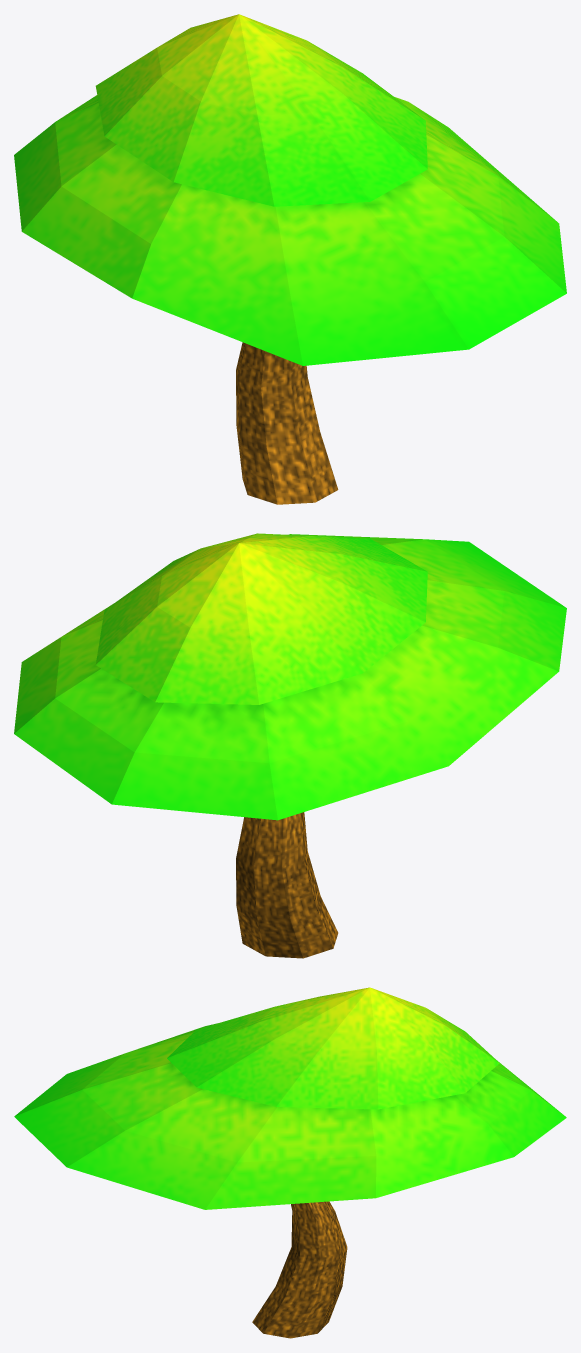
The model's file is tree_5.fbx.
3 renders of one model, top to bottom at view 1: azimuth 30°, elevation 25°; view 2: azimuth 150°, elevation 25°; view 3: azimuth 270°, elevation 25°, orthographic. The views are drawn at different scales.
Visible parts, largest first — view 1: pCone2; view 2: pCone2; view 3: pCone2.
Boxes of the visible parts, x1,y1,x2,y2 form: pCone2: (14,14,566,504); pCone2: (14,533,566,958); pCone2: (14,987,566,1338).
Bounding box in the file's own units: 9.42 × 9.12 × 13.66.
1 material, 1 textured.
